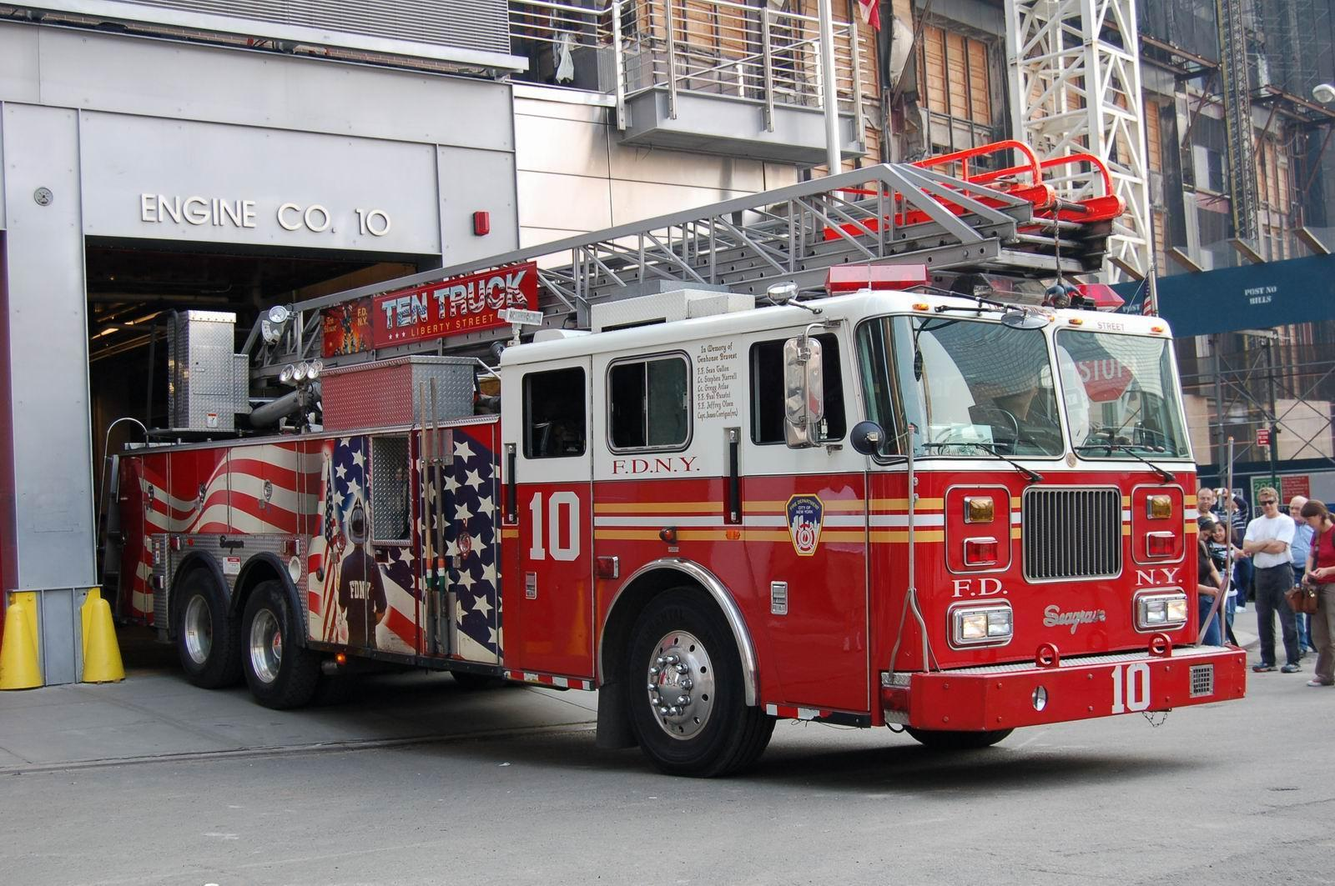Fire-engine: (111, 143, 1250, 778)
